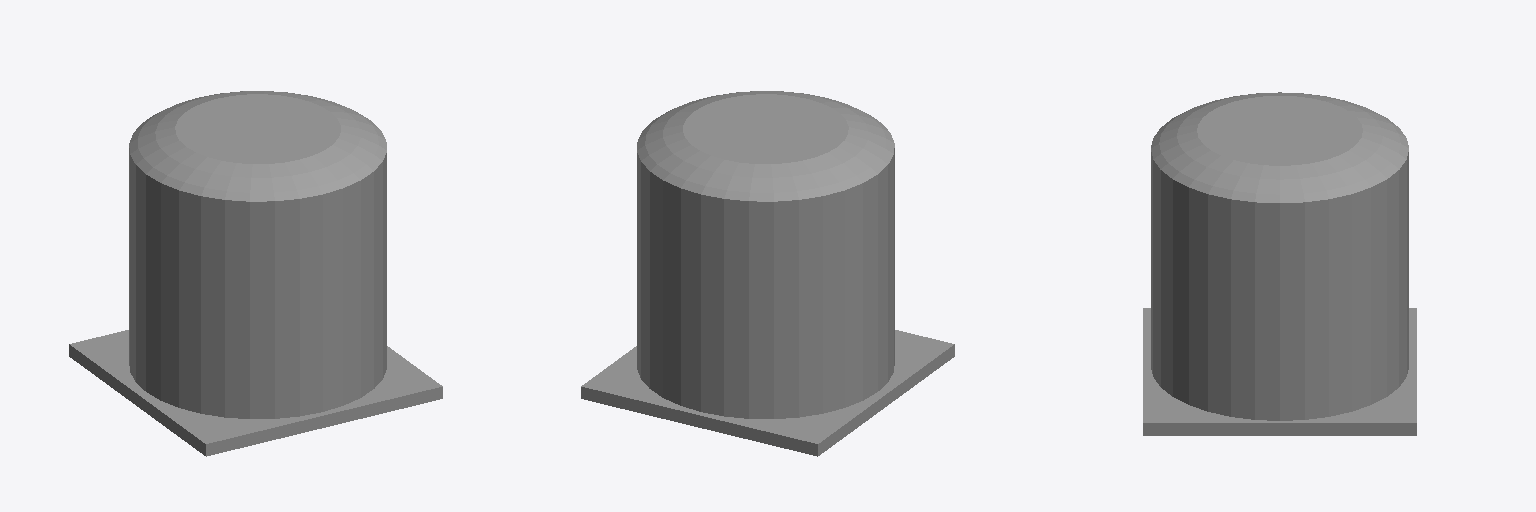
The model's file is Big_Cap.obj.
The picture shows the model from 3 angles: view 1: azimuth 30°, elevation 25°; view 2: azimuth 150°, elevation 25°; view 3: azimuth 270°, elevation 25°; orthographic projection.
Visible parts, largest first — view 1: Cylinder, Cube.001_Cube.000, Cube.002, Cube_Cube.001; view 2: Cylinder, Cube_Cube.001, Cube.003, Cube.001_Cube.000; view 3: Cylinder, Cube.003, Cube.002.
Boxes of the visible parts, box(x1,y1,x2,y2) form: Cylinder: box(129, 91, 386, 418); Cube.001_Cube.000: box(138, 392, 323, 456); Cube.002: box(321, 346, 442, 427); Cube_Cube.001: box(69, 330, 145, 406); Cylinder: box(637, 91, 894, 418); Cube_Cube.001: box(700, 392, 885, 456); Cube.003: box(581, 346, 702, 427); Cube.001_Cube.000: box(878, 330, 954, 406); Cylinder: box(1151, 92, 1408, 420); Cube.003: box(1280, 365, 1416, 435); Cube.002: box(1143, 365, 1279, 435).
Size of the model in its own units: 2 by 2.04 by 2.